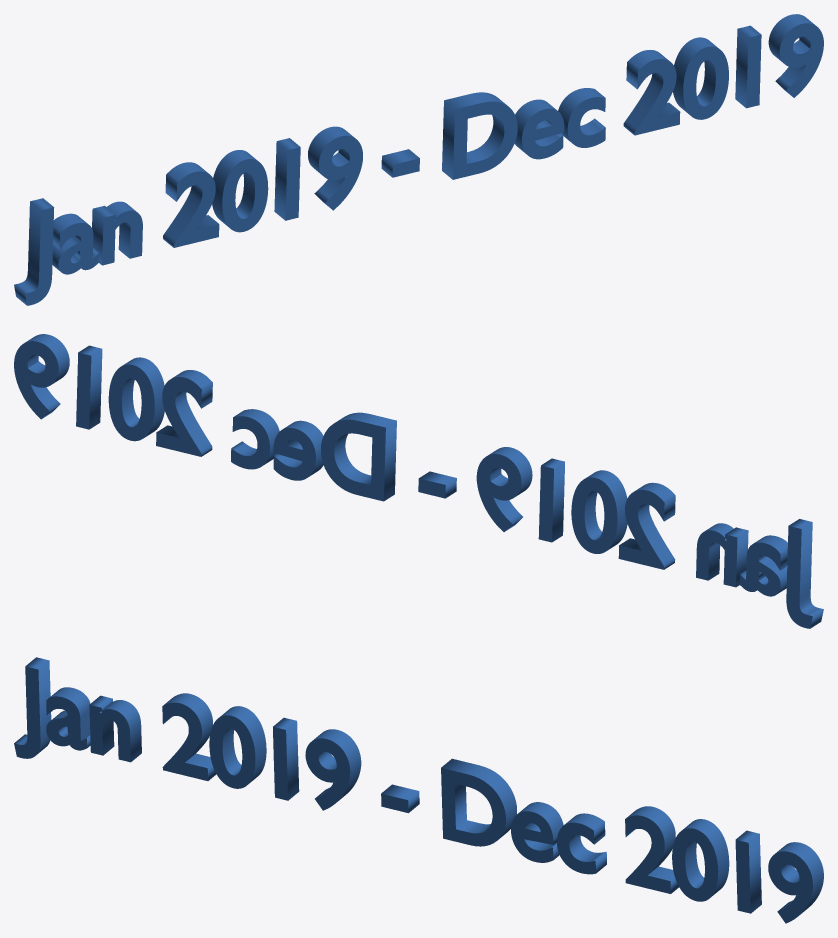
File: dec19.glb
3 renders of one model, top to bottom at view 1: azimuth 30°, elevation 25°; view 2: azimuth 150°, elevation 25°; view 3: azimuth 330°, elevation 25°, orthographic.
Visible parts, largest first — view 1: Text; view 2: Text; view 3: Text.
Part boxes in pixels (x1,y1,x2,y2): Text: (14,14,823,305); Text: (14,334,823,628); Text: (14,657,823,923).
Bounding box in the file's own units: 8.35 × 0.9703 × 0.2505.
